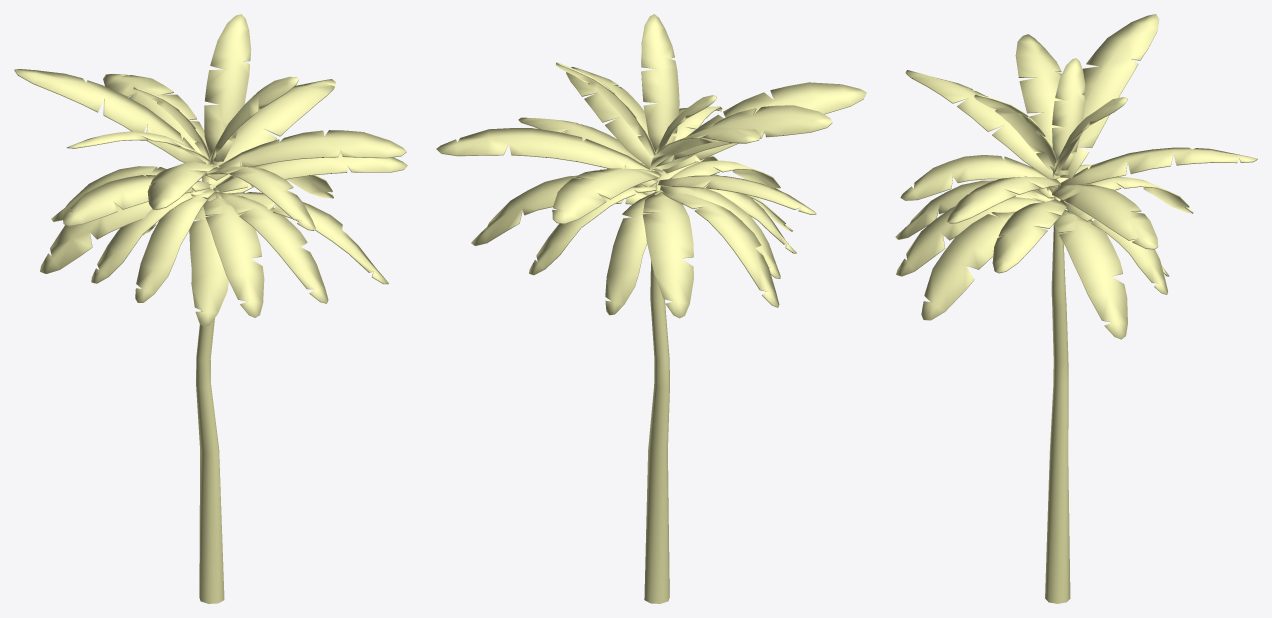
Rendered from MangaKa Props - N_C_Veg_PalmTree_01.glb.
3 renders of one model, left to right at view 1: azimuth 30°, elevation 25°; view 2: azimuth 150°, elevation 25°; view 3: azimuth 270°, elevation 25°, orthographic. The views are drawn at different scales.
Parts seen in each view (by area): view 1: N_C_Veg_PalmTree_01_Leaves_blueScreen, N_C_Veg_PalmTree_01_blueScreen; view 2: N_C_Veg_PalmTree_01_Leaves_blueScreen, N_C_Veg_PalmTree_01_blueScreen; view 3: N_C_Veg_PalmTree_01_Leaves_blueScreen, N_C_Veg_PalmTree_01_blueScreen.
Part boxes in pixels (x1,y1,x2,y2): N_C_Veg_PalmTree_01_Leaves_blueScreen: (14,14,407,326); N_C_Veg_PalmTree_01_blueScreen: (196,184,224,603); N_C_Veg_PalmTree_01_Leaves_blueScreen: (436,14,866,318); N_C_Veg_PalmTree_01_blueScreen: (644,181,669,603); N_C_Veg_PalmTree_01_Leaves_blueScreen: (895,14,1257,339); N_C_Veg_PalmTree_01_blueScreen: (1045,196,1070,603).
Bounding box in the file's own units: 8.43 × 13.3 × 8.26.
